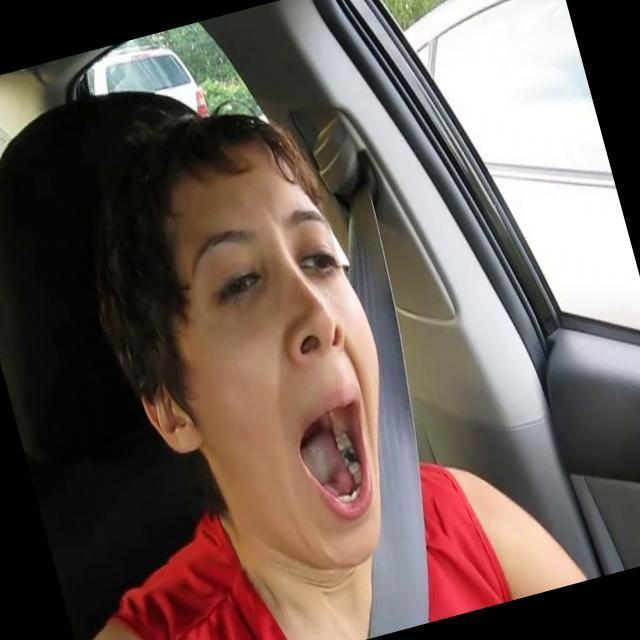open-mouth: (296, 392, 374, 521)
